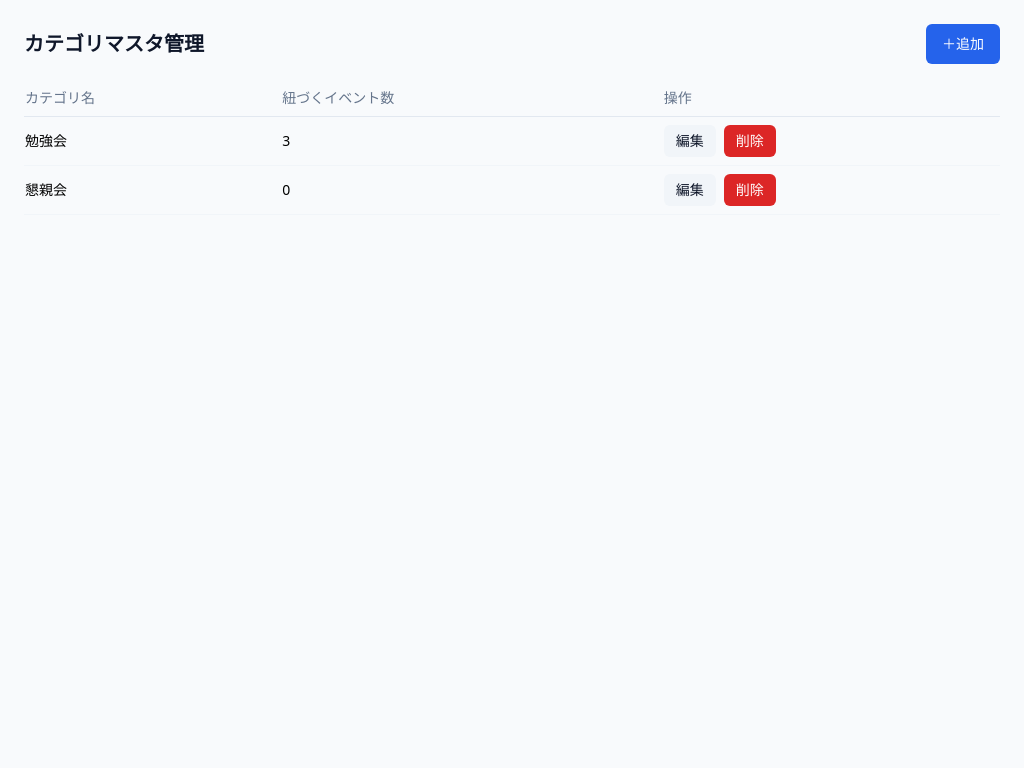
CategoriesAdminPage › 「＋追加」クリックで、新規モードのカテゴリ追加モーダルが開くこと
This screenshot has width=1024, height=768.
Expected: the text "勉強会" is shown, [24,116,281,166]
Step 1. Click the button "＋追加" → (963, 44), box [926,24,1000,64]
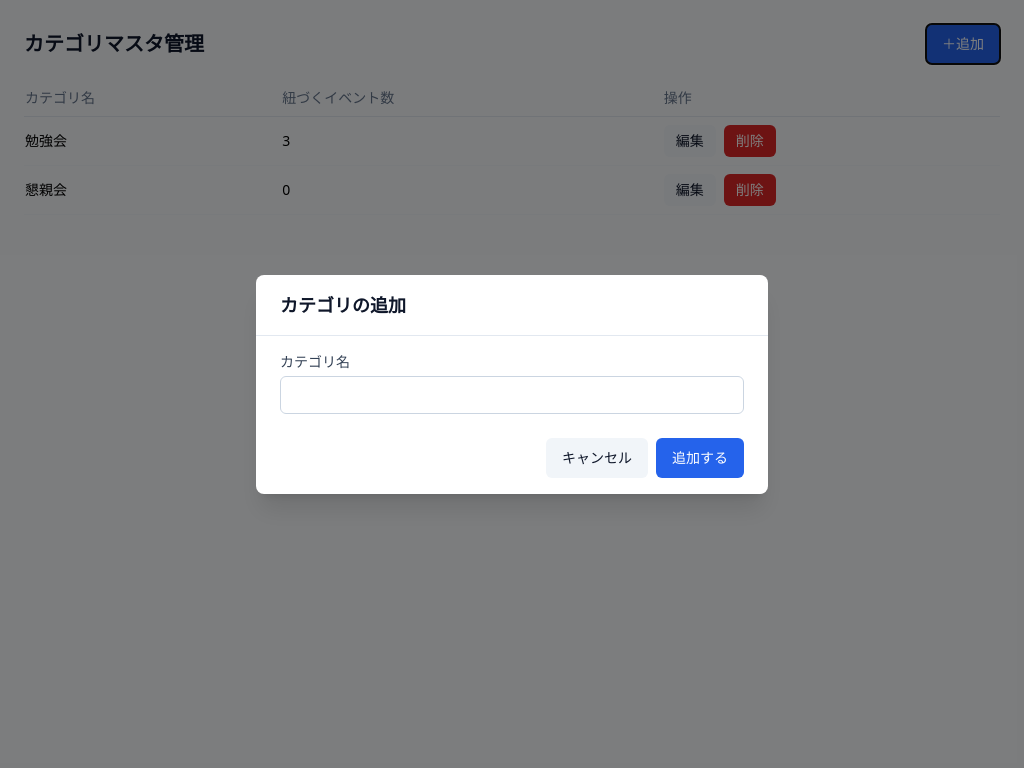
Expected: the field labelled "カテゴリ名" is empty, [280,376,744,414]
Expected: the heading "カテゴリの追加" is shown, [280,292,406,316]
